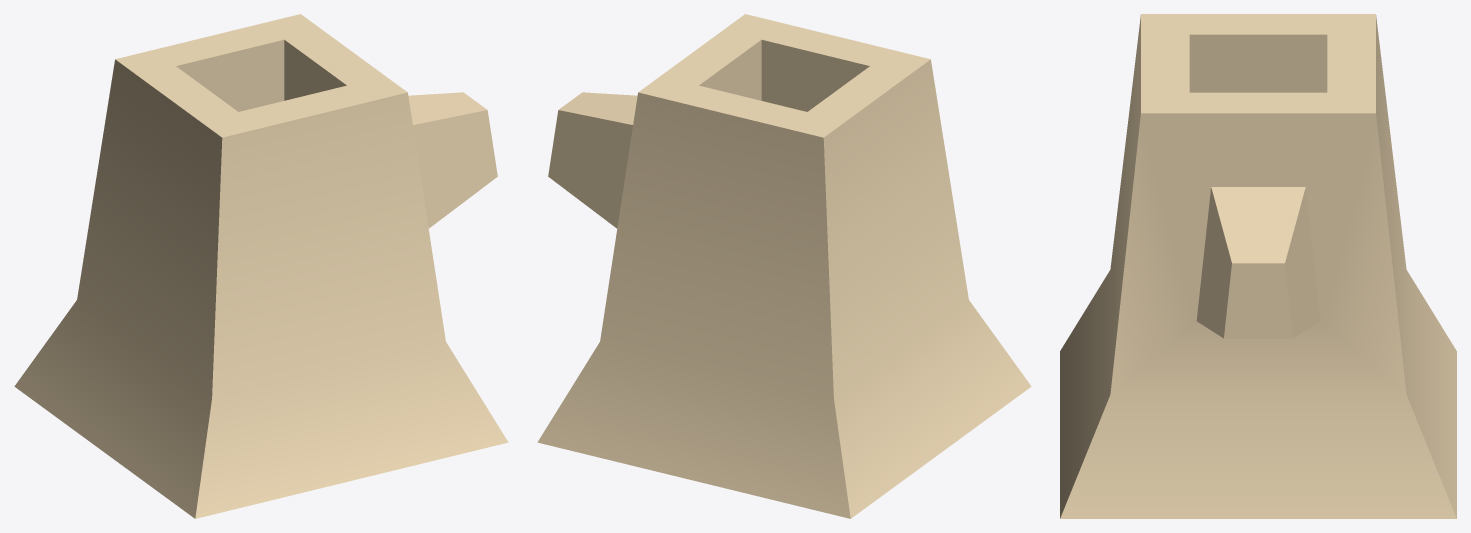
The model's file is naturePack_109.fbx.
3 views of the same model, side by side, from view 1: azimuth 30°, elevation 25°; view 2: azimuth 150°, elevation 25°; view 3: azimuth 270°, elevation 25° (orthographic). The views are drawn at different scales.
Parts seen in each view (by area): view 1: naturePack_109; view 2: naturePack_109; view 3: naturePack_109.
Part boxes in pixels (x1,y1,x2,y2): naturePack_109: (14, 14, 508, 518); naturePack_109: (537, 14, 1031, 518); naturePack_109: (1060, 14, 1456, 518).
Size of the model in its own units: 96.75 by 83 by 80.37.
